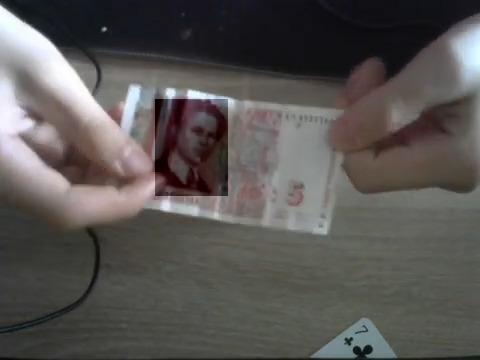5leva: (155, 99, 228, 196)
